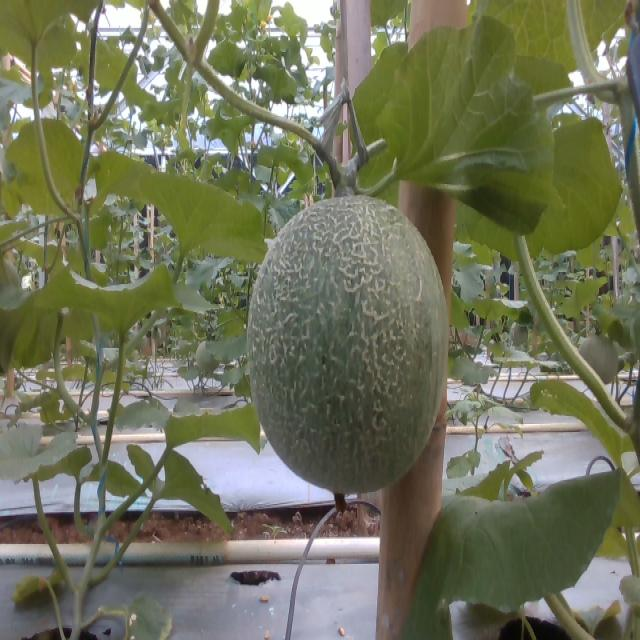melon: (248, 195, 449, 493)
